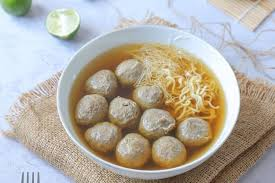bakso: (75, 48, 209, 173)
